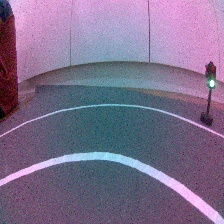green: (197, 60, 220, 126)
